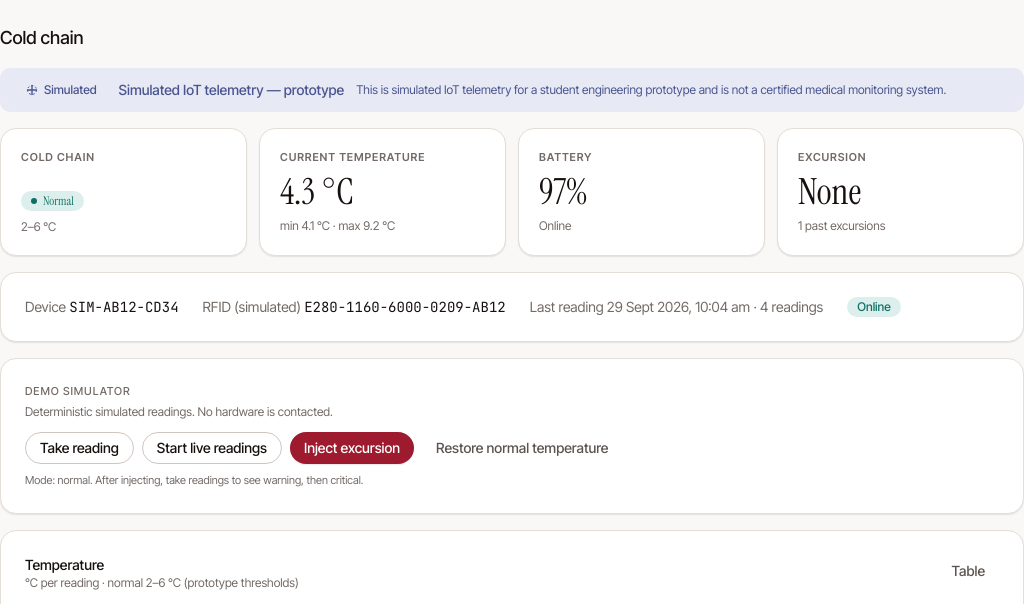
BagTelemetryPanel › injects an excursion and reports the raised transitions
Expected: the text "SIM-AB12-CD34" is shown, [69,298,179,316]
What coordinates should you click on to do the following:
click the button "Take reading"
I would click on:
 (79, 448)
Its box is [25,432,134,464].
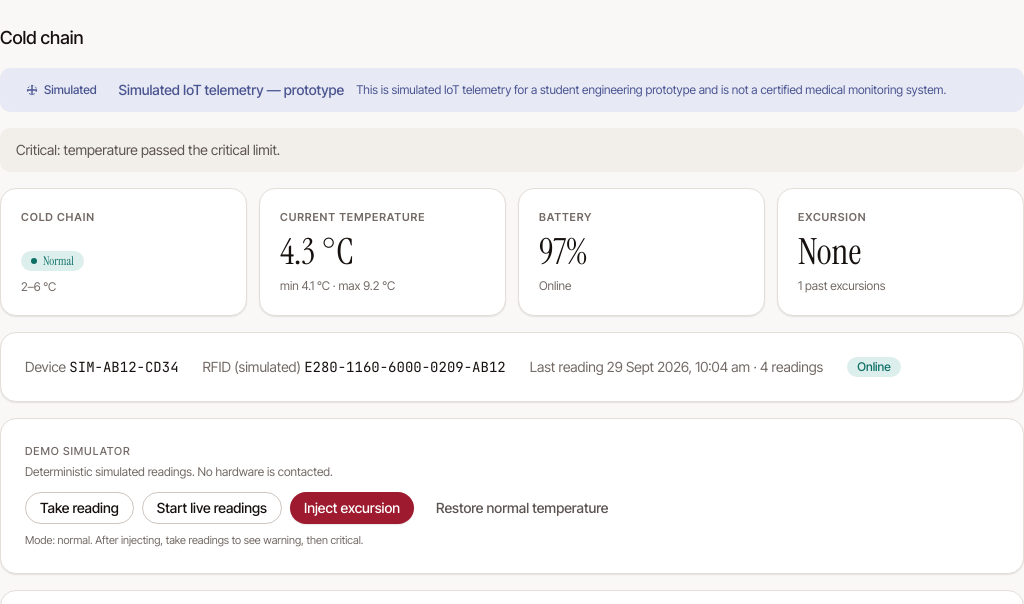
Result: the text "Critical: temperature passed the critical limit." is shown at [16,141,280,158]
